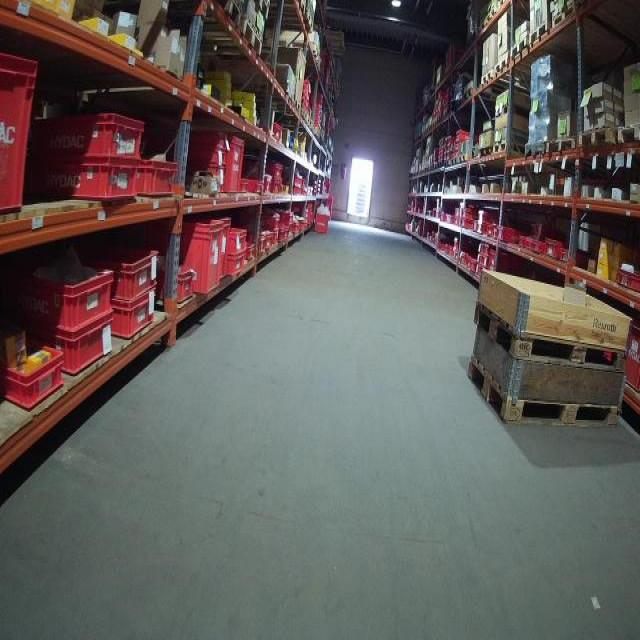pallet: (461, 354, 622, 430), (473, 302, 627, 375), (579, 125, 616, 149), (552, 0, 583, 28), (241, 18, 263, 57), (546, 137, 576, 155), (617, 122, 640, 145), (220, 0, 241, 25), (529, 21, 551, 44), (511, 35, 529, 58), (524, 141, 545, 157), (495, 56, 509, 74), (493, 138, 507, 154), (304, 12, 314, 33), (481, 69, 494, 85), (294, 99, 301, 112)
small_load_carrier: (15, 260, 116, 329), (2, 53, 43, 209), (41, 104, 146, 161), (30, 311, 114, 376), (45, 153, 141, 206), (172, 217, 226, 302), (2, 343, 67, 413), (93, 242, 163, 300), (106, 288, 163, 339), (138, 152, 182, 200), (162, 120, 229, 147), (226, 131, 250, 201), (172, 145, 227, 167), (622, 320, 637, 392), (224, 225, 250, 259), (612, 263, 640, 291), (198, 168, 227, 195), (178, 266, 196, 301), (213, 217, 229, 256), (224, 257, 250, 281), (252, 210, 282, 230), (250, 227, 265, 265), (495, 224, 520, 246), (477, 209, 496, 233), (246, 239, 258, 275), (544, 233, 561, 258), (488, 247, 502, 274), (472, 251, 493, 267), (528, 238, 544, 258), (273, 157, 285, 182), (262, 171, 273, 194), (265, 225, 273, 256), (471, 261, 482, 282), (516, 235, 532, 248), (561, 244, 570, 264), (488, 221, 498, 239), (477, 242, 493, 253)
